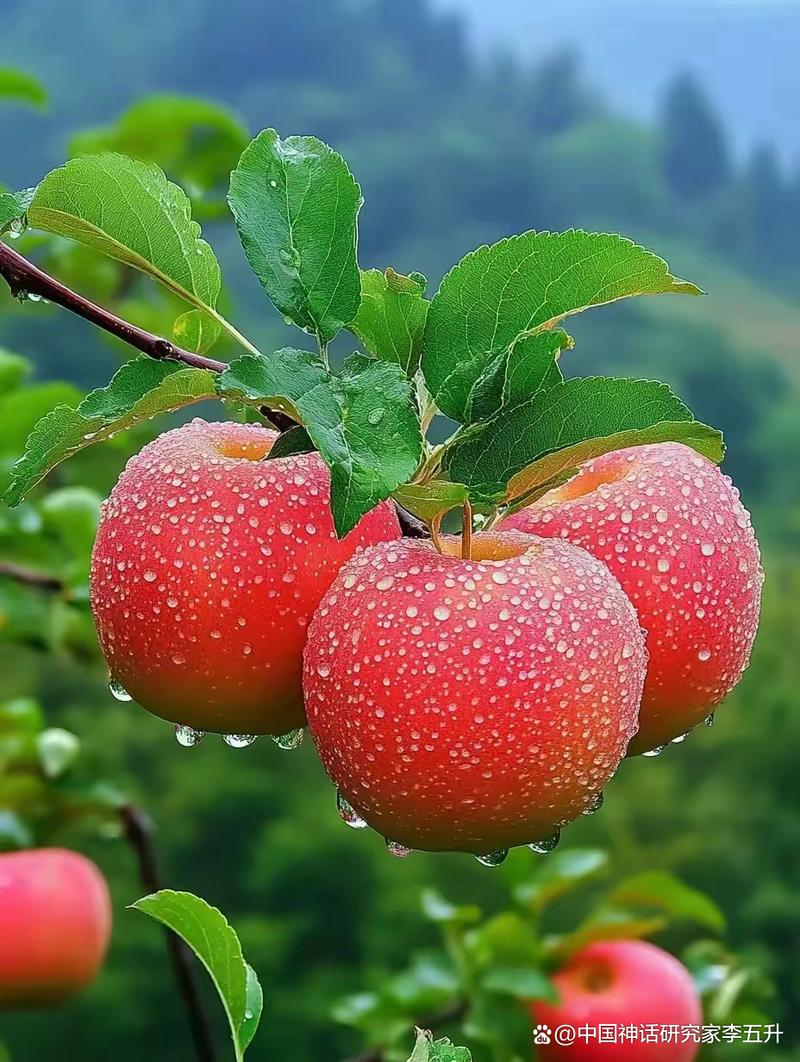ripe: (298, 526, 661, 864), (68, 393, 404, 753), (469, 436, 778, 753), (512, 913, 713, 1062), (0, 832, 119, 1013)
